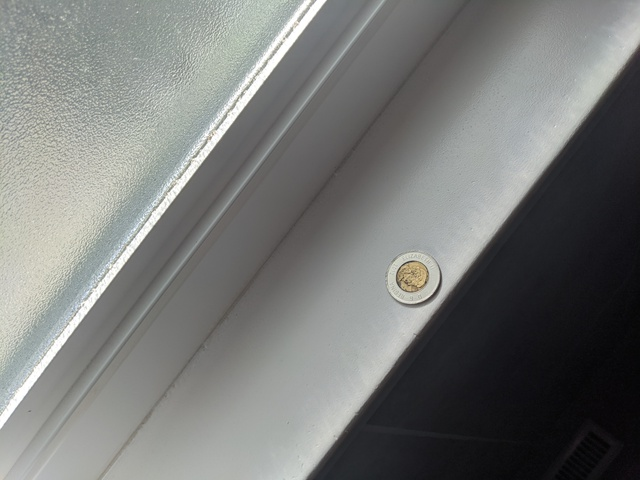twonie: (384, 244, 443, 308)
